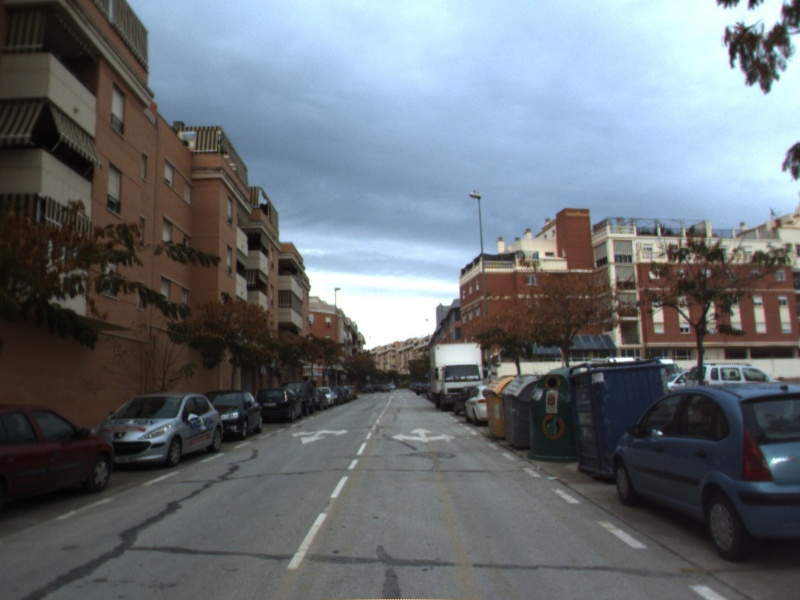STRAIGHT_LEFT_RIGHT: (389, 425, 458, 445)
